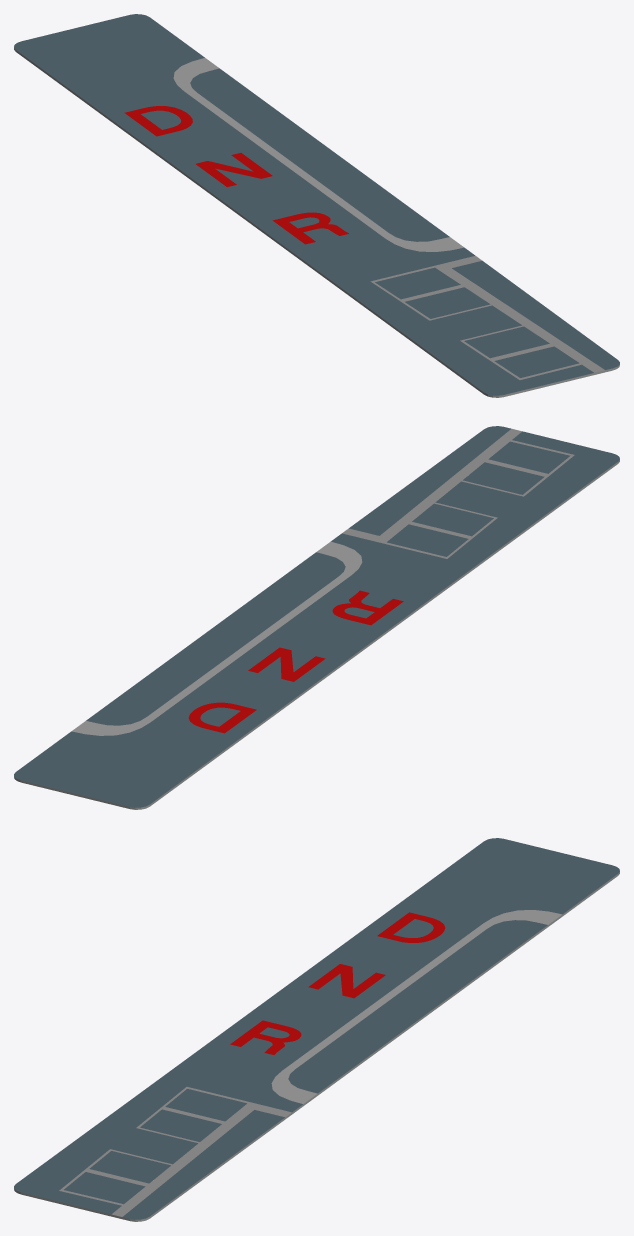
3 views of the same model, one above another, from view 1: azimuth 30°, elevation 25°; view 2: azimuth 150°, elevation 25°; view 3: azimuth 330°, elevation 25° (orthographic).
Parts seen in each view (by area): view 1: world; view 2: world; view 3: world.
Part boxes in pixels (<box>): world: <box>14,14,619,397</box>; world: <box>14,426,619,809</box>; world: <box>14,838,619,1221</box>.
Bounding box in the file's own units: 0.0064 × 0.0001 × 0.04.
